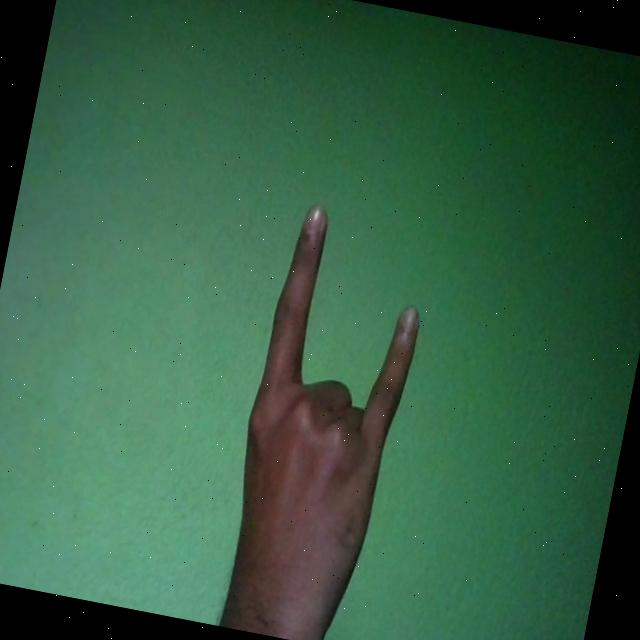open Plam: (209, 199, 438, 640)
